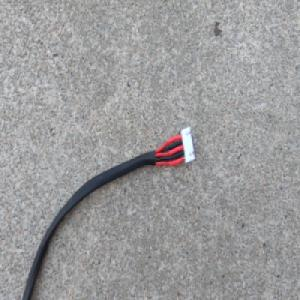Wire: (19, 122, 196, 300)
